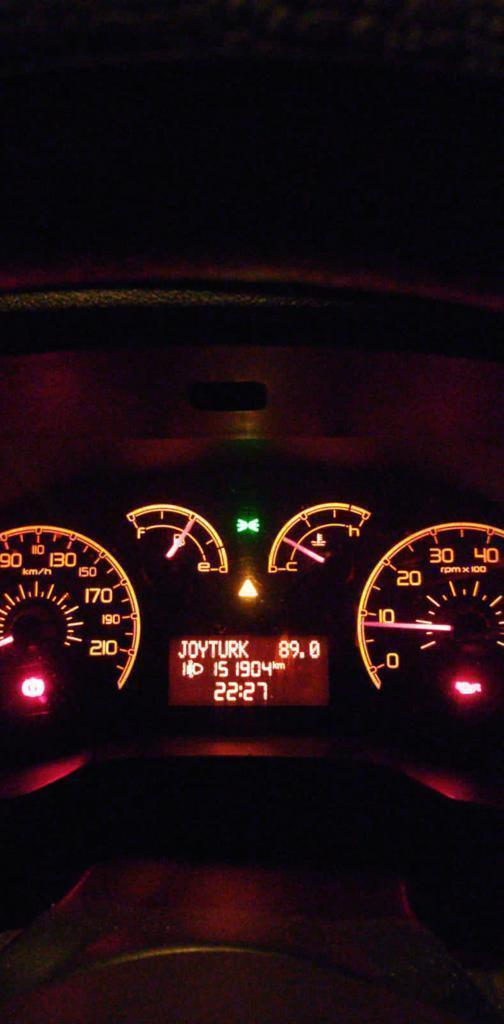,: (299, 650, 305, 659)
0: (308, 639, 321, 658), (250, 659, 261, 677)
1: (211, 660, 217, 677), (233, 660, 239, 677), (180, 661, 186, 676)
2: (213, 680, 225, 702), (243, 680, 255, 701), (226, 680, 238, 701)
4: (261, 660, 272, 677)
5: (217, 660, 229, 678)
7: (255, 680, 269, 701)
8: (277, 639, 289, 658)
9: (289, 639, 299, 659), (239, 659, 250, 677)
X: (176, 638, 188, 659), (238, 639, 250, 659), (207, 639, 218, 659), (218, 638, 228, 659), (227, 639, 238, 658), (188, 640, 198, 658), (198, 639, 207, 658), (238, 684, 243, 698), (272, 660, 277, 670), (277, 662, 284, 669)
odometer: (163, 631, 333, 709)
